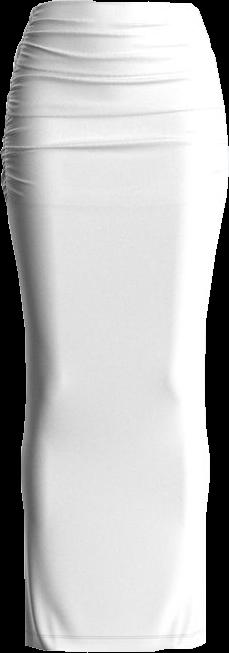Hemline: (23, 642, 208, 652)
Waistline: (30, 0, 197, 13)
